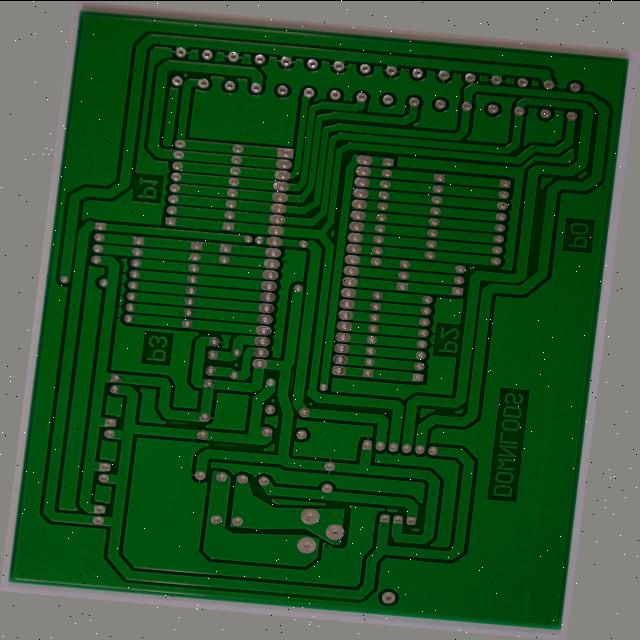spurious_copper: (215, 458, 243, 469), (293, 375, 302, 400), (162, 440, 186, 447)
